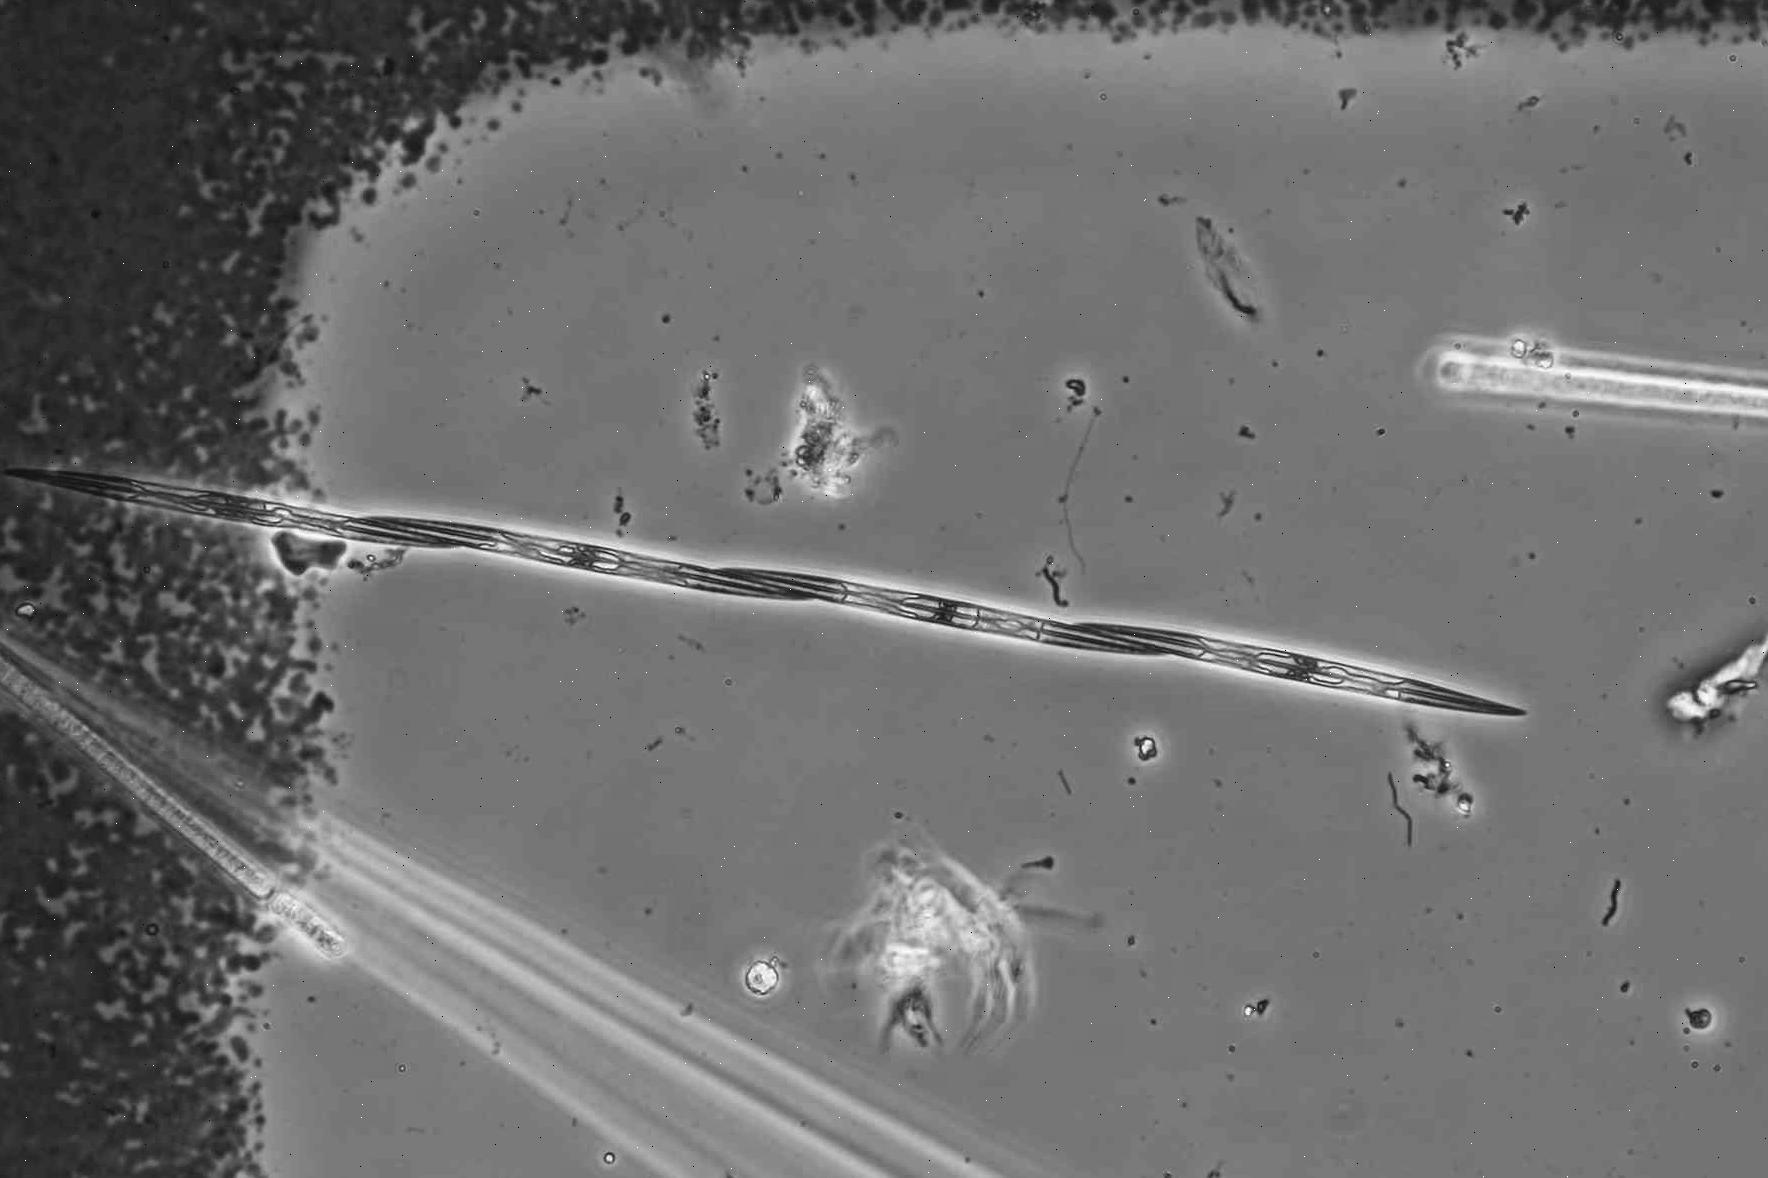pseudo_nitzschia: (0, 469, 1534, 717)
